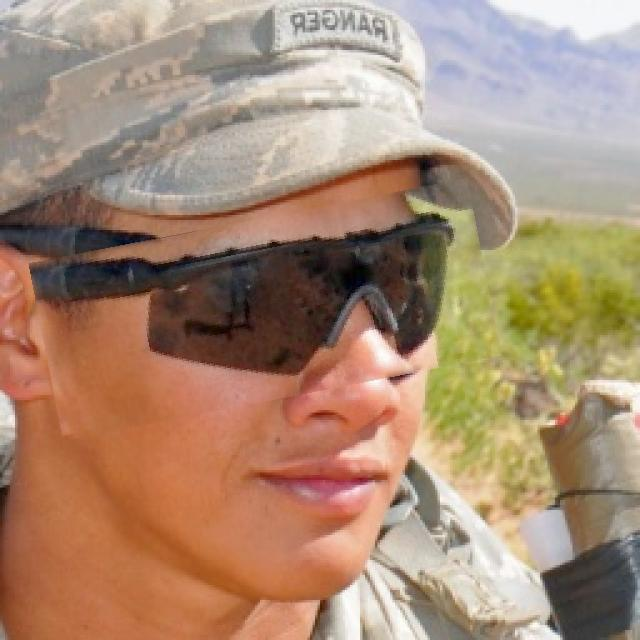glasses: (36, 199, 495, 420)
